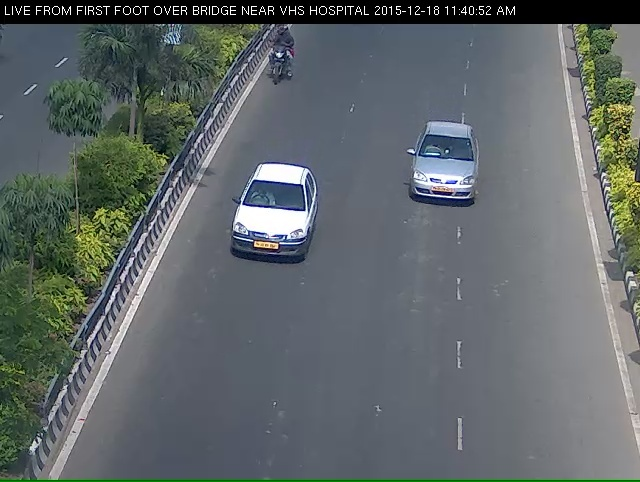Car: (208, 170, 319, 293), (395, 128, 491, 235)
Person: (259, 34, 292, 91)
